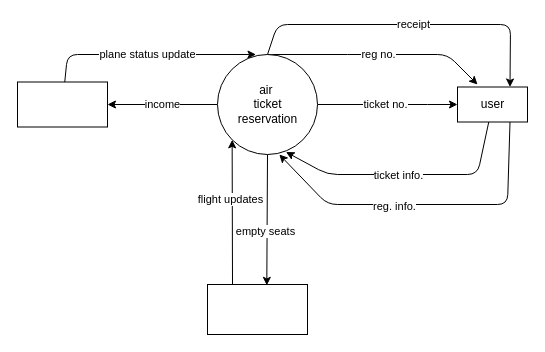
Some shapes in this 545 by 352 pixel diagram are drawn without their labels. The centre of each missing label's shape, as x and y in pixels:
Administration: point (257, 309)
airline: point (62, 104)
